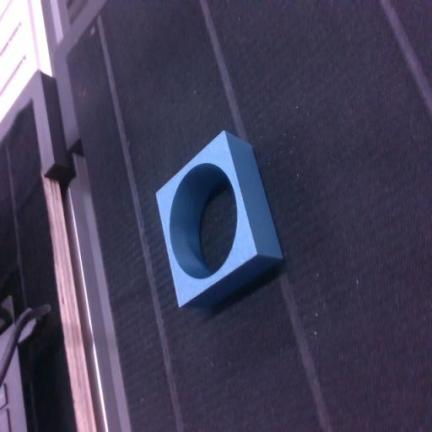square: (156, 131, 282, 306)
